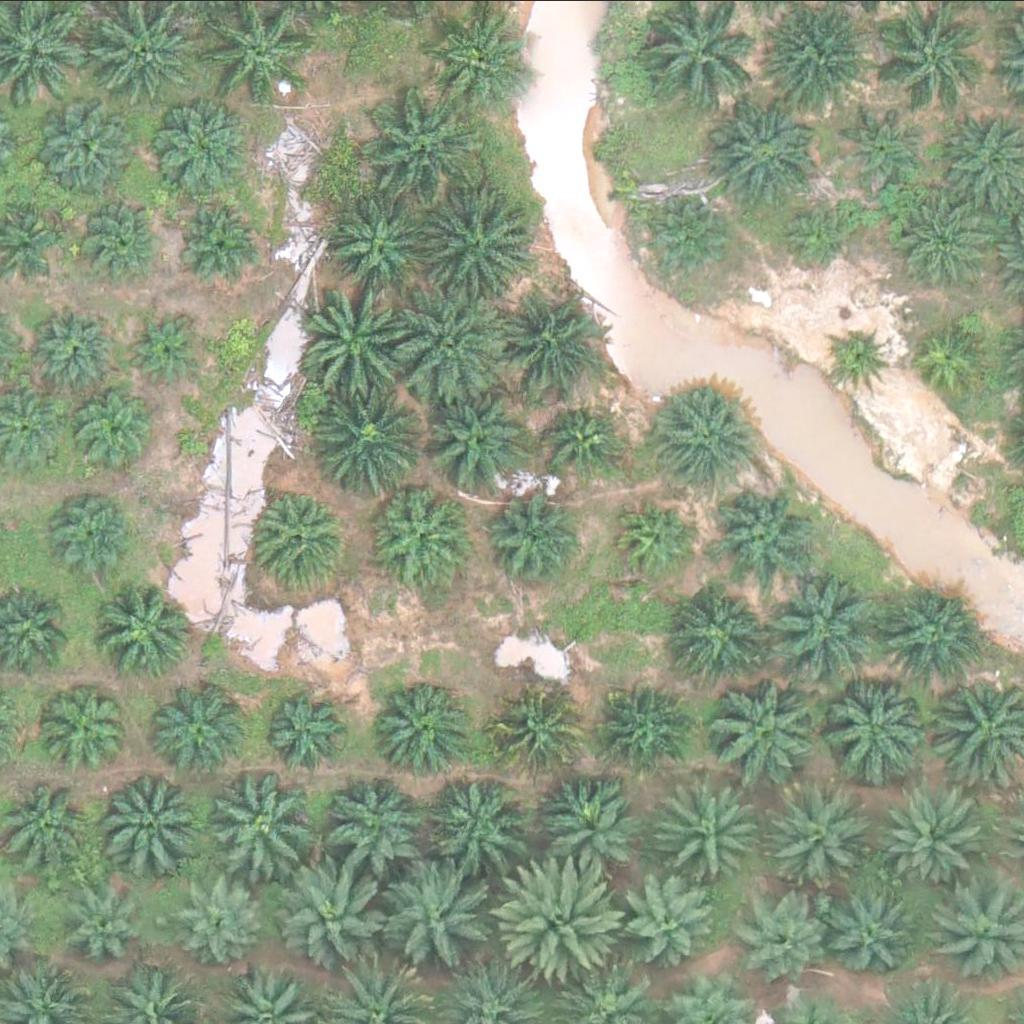Kelapa_Sawit: (497, 852, 623, 977), (421, 190, 535, 303), (375, 862, 489, 975), (712, 99, 825, 212), (763, 573, 876, 686), (707, 672, 820, 785), (818, 668, 931, 781), (317, 383, 430, 496), (206, 768, 319, 881), (281, 855, 394, 968), (91, 763, 205, 875), (767, 4, 880, 116), (363, 91, 476, 203), (396, 283, 509, 395), (300, 284, 413, 396), (426, 395, 527, 495), (884, 587, 985, 687), (368, 675, 469, 775), (427, 768, 528, 868), (664, 782, 765, 882), (776, 787, 877, 887), (884, 791, 985, 891), (46, 97, 147, 197), (327, 196, 428, 296), (98, 580, 199, 680), (436, 7, 536, 107), (501, 297, 601, 397), (661, 387, 761, 487), (894, 189, 994, 289), (369, 484, 469, 584), (714, 481, 814, 581), (334, 773, 434, 873), (534, 783, 634, 883), (152, 98, 252, 198), (254, 486, 354, 586), (154, 678, 254, 778), (840, 101, 928, 189), (648, 196, 736, 284), (486, 499, 574, 587), (681, 588, 769, 676), (492, 688, 580, 776), (744, 895, 832, 983), (181, 198, 269, 286), (48, 681, 136, 769), (261, 689, 349, 777), (831, 893, 920, 980), (600, 686, 688, 773), (624, 878, 712, 965), (50, 491, 138, 578), (67, 381, 155, 468), (27, 299, 115, 386), (71, 201, 159, 288), (75, 877, 163, 964), (180, 872, 268, 959), (124, 310, 200, 385), (617, 500, 693, 575), (543, 405, 618, 480), (779, 197, 854, 272), (917, 321, 992, 396), (830, 324, 893, 387)
